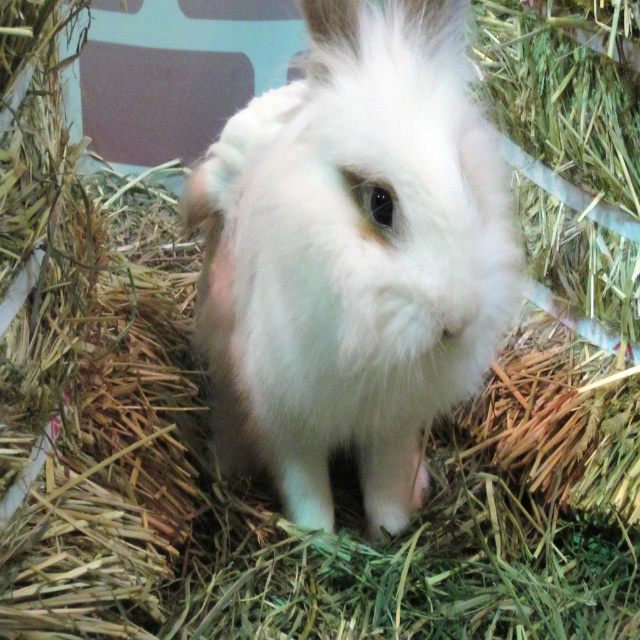Rabbit: (180, 0, 526, 554)
